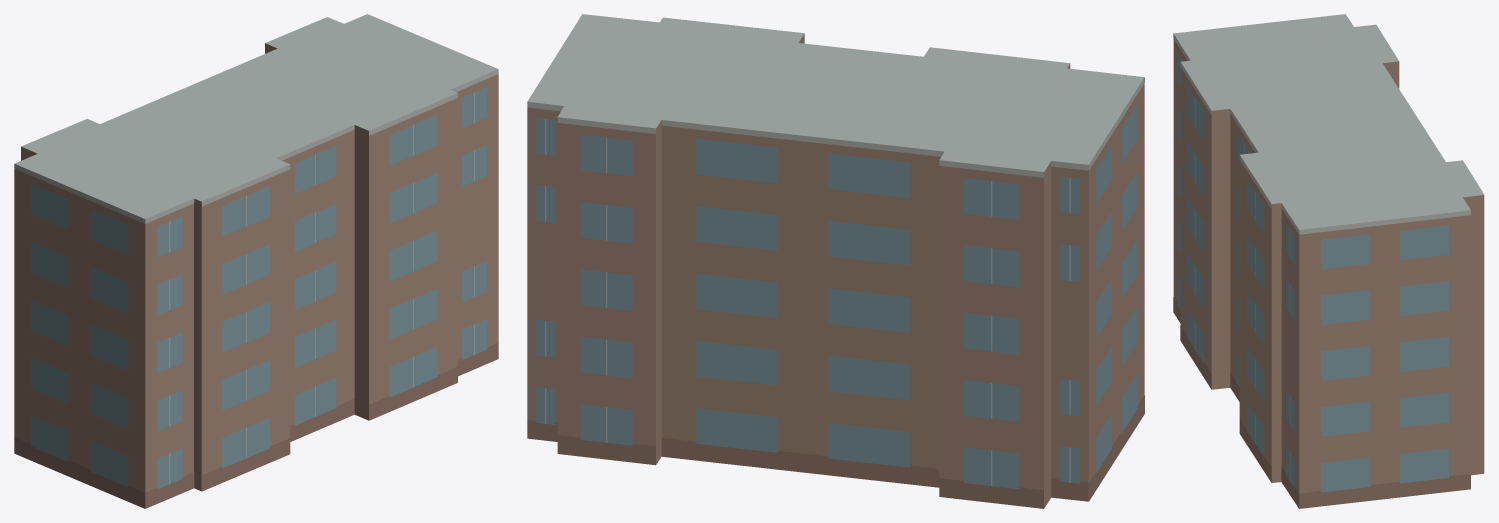
Rendered from survey-upis-32562105.glb.
3 views of the same model, side by side, from view 1: azimuth 30°, elevation 25°; view 2: azimuth 150°, elevation 25°; view 3: azimuth 270°, elevation 25° (orthographic). The views are drawn at different scales.
Parts seen in each view (by area): view 1: survey-upis-32562105.tmp; view 2: survey-upis-32562105.tmp; view 3: survey-upis-32562105.tmp.
Part boxes in pixels (box(x1,y1,x2,y2)): survey-upis-32562105.tmp: box(14, 14, 498, 508); survey-upis-32562105.tmp: box(527, 14, 1144, 508); survey-upis-32562105.tmp: box(1173, 14, 1484, 508).
Bounding box in the file's own units: 23.93 × 14.4 × 14.56.
